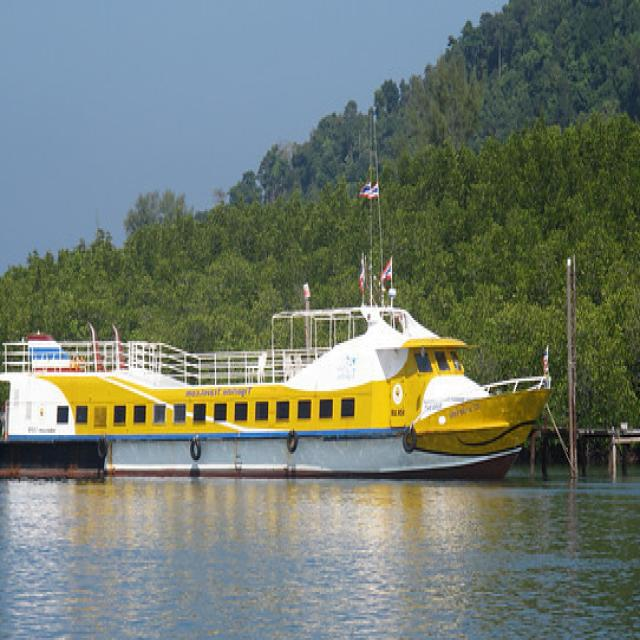houseboat: (0, 257, 562, 494)
